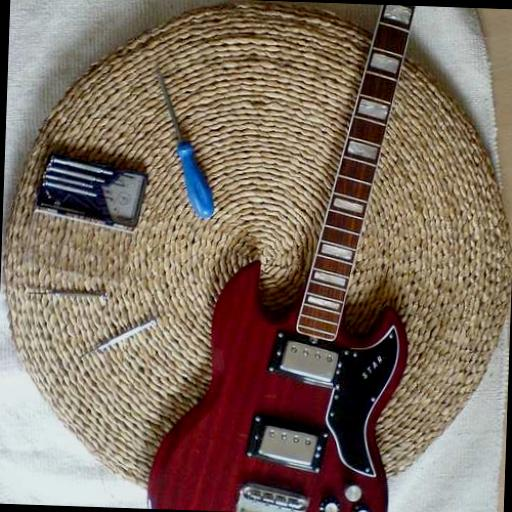screwdriver: (152, 74, 218, 218)
